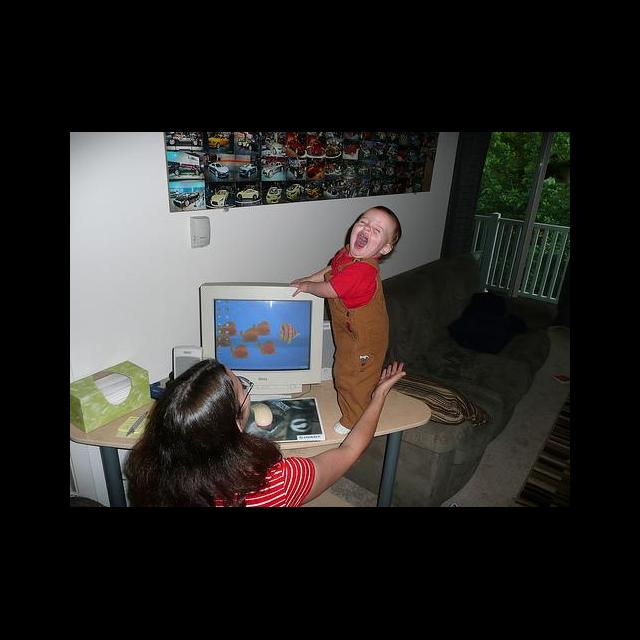NO-Hardhat: (152, 360, 235, 443), (368, 204, 403, 239)
NO-Mask: (345, 228, 385, 256), (236, 393, 253, 428)
NO-Safety Vest: (326, 252, 387, 348), (209, 454, 313, 508)
Person: (124, 362, 407, 506), (291, 203, 405, 435)
